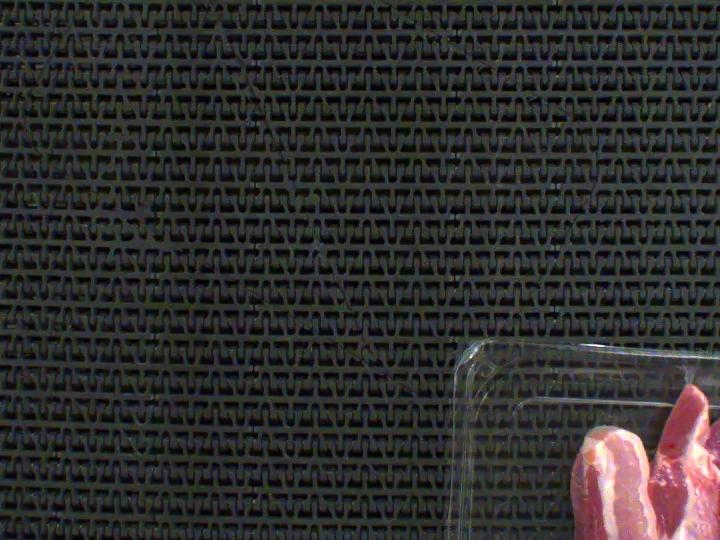packaging-error: (673, 357, 699, 386)
